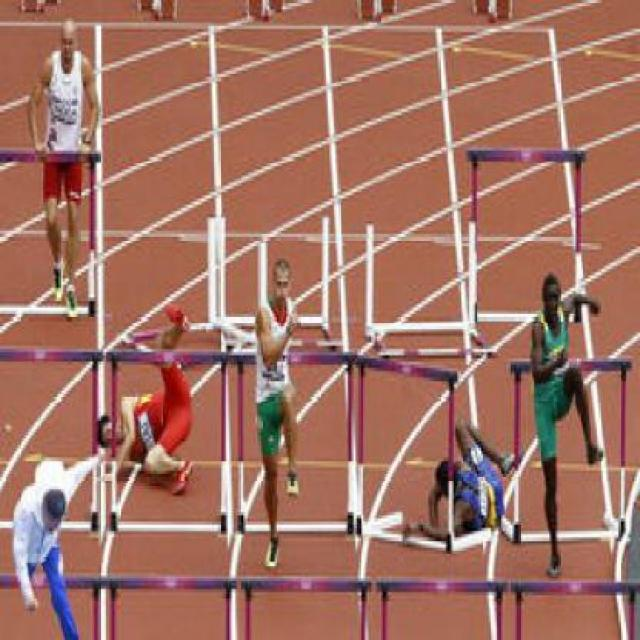fall: (411, 404, 518, 544)
